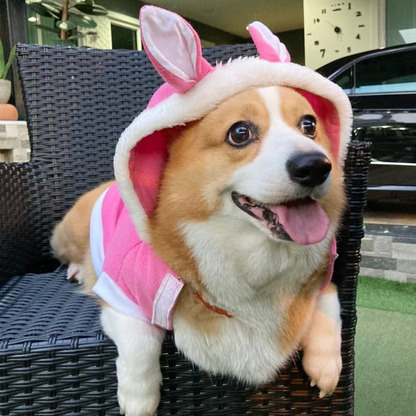Corgi: (159, 85, 364, 311)
